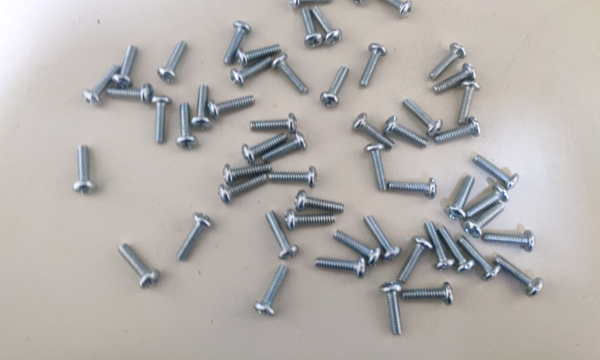shortscrew: (118, 242, 161, 291), (496, 256, 545, 298), (458, 237, 502, 282), (176, 212, 214, 262), (438, 225, 476, 274), (254, 265, 289, 318), (266, 209, 300, 261), (398, 235, 434, 284), (364, 214, 401, 261), (334, 230, 382, 266), (473, 155, 520, 190), (83, 64, 121, 107), (271, 53, 309, 96), (424, 221, 457, 270), (402, 98, 443, 137), (353, 113, 396, 150), (383, 116, 430, 149), (218, 174, 269, 204), (430, 41, 468, 81), (242, 134, 289, 166), (262, 133, 308, 164), (467, 184, 510, 217), (230, 56, 274, 88), (465, 203, 505, 238), (434, 117, 482, 146), (446, 174, 475, 222), (158, 40, 189, 83), (223, 20, 252, 65), (294, 189, 346, 214), (360, 44, 389, 88), (432, 64, 476, 93), (312, 6, 343, 47), (320, 65, 349, 108), (364, 143, 389, 191), (483, 230, 535, 253), (402, 283, 454, 306), (380, 283, 402, 336), (175, 102, 199, 150), (112, 45, 138, 89), (269, 166, 318, 189), (285, 209, 336, 231), (208, 96, 256, 119), (236, 44, 282, 68), (74, 145, 96, 195), (389, 178, 437, 200), (316, 257, 366, 278), (249, 113, 298, 134), (459, 81, 482, 125), (223, 165, 273, 185), (151, 96, 172, 143), (301, 7, 324, 49), (107, 83, 156, 102), (191, 85, 211, 131), (370, 0, 412, 18), (290, 0, 334, 11), (353, 0, 384, 6)
